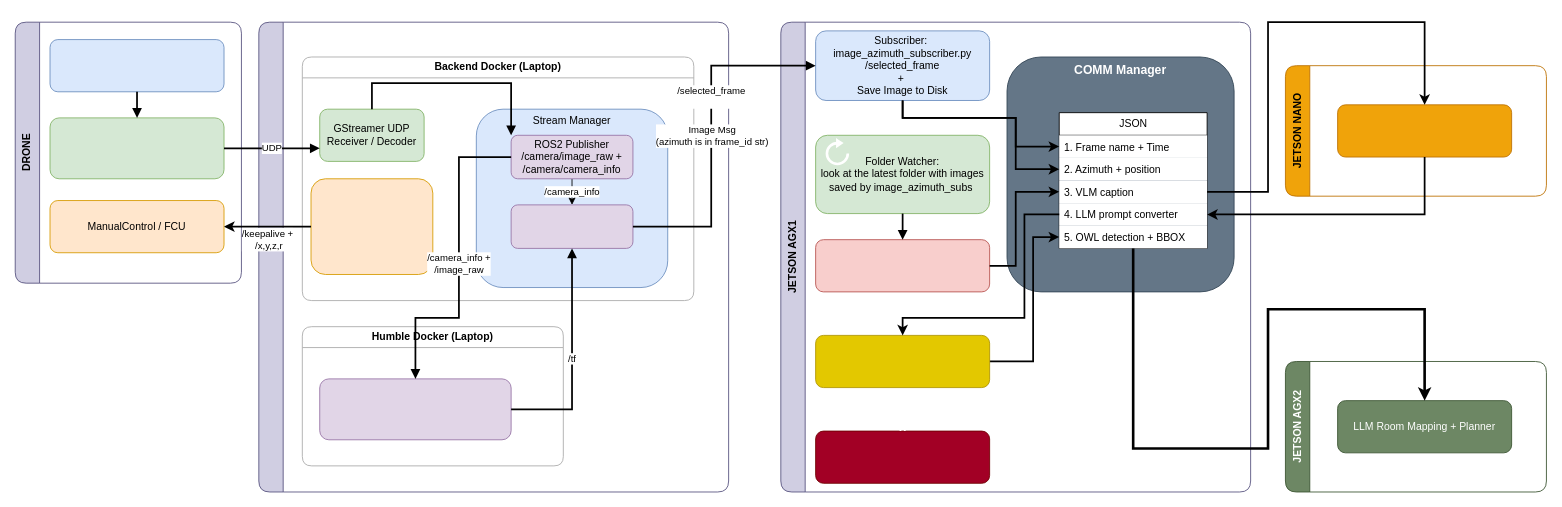
This 1562x507 diagram has some shape labels left out. The box of each missing label's shape, as (x1, y1, x2, y2) in pixels:
AprilTag Node (sub image + camera_info): (319, 378, 511, 440)
Azimuth Calculator: (510, 204, 633, 248)
Camera: (49, 39, 224, 92)
Display Server: (815, 430, 990, 483)
LAPTOP (ROS2 network edge): (258, 21, 729, 492)
LLM Prompt Converter: (1337, 104, 1512, 157)
Main Control Loop ManualControl commands: (310, 178, 433, 274)
NanoOWL: (815, 335, 990, 388)
Video Stream H264/RTP over UDP: (49, 117, 224, 179)
VILA: (815, 239, 990, 292)
